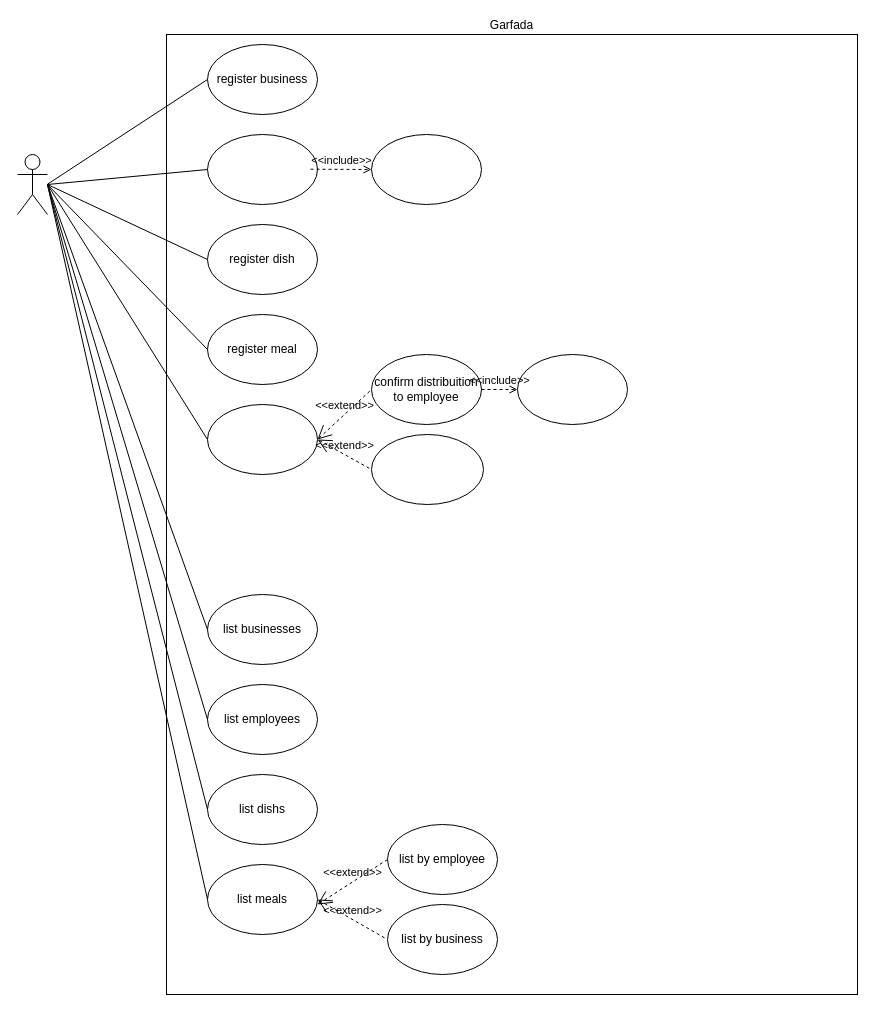
Image size: 875x1012. Some labels were removed from this diagram. Here are the shapes that lost their labels. From the top down, the box of each, then its label:
(16, 154, 48, 214): User
(206, 134, 318, 204): register employee
(370, 134, 482, 204): associate employee to bussiness
(516, 354, 628, 424): print receipt
(206, 404, 318, 474): try to distribute a meal to employee
(370, 434, 484, 504): reject distribuition to employee
